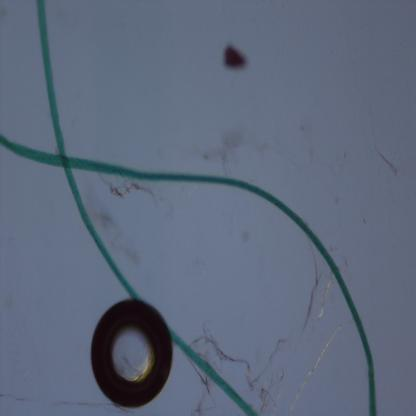Air bubble: (90, 298, 174, 408)
Background material: (240, 277, 336, 400), (204, 124, 257, 178), (101, 173, 152, 207), (220, 38, 252, 76)
Microfibre: (0, 133, 378, 414), (36, 0, 259, 414)
